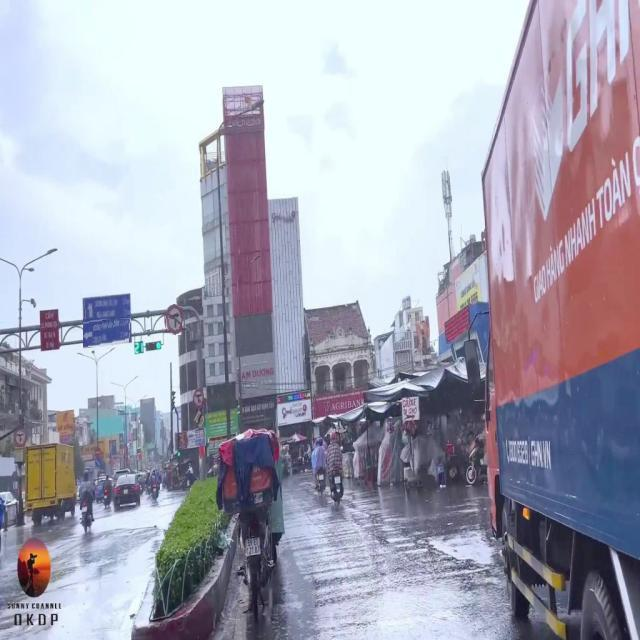137-cam-re-trai-va-re-phai: (165, 304, 183, 334), (192, 388, 204, 408)
